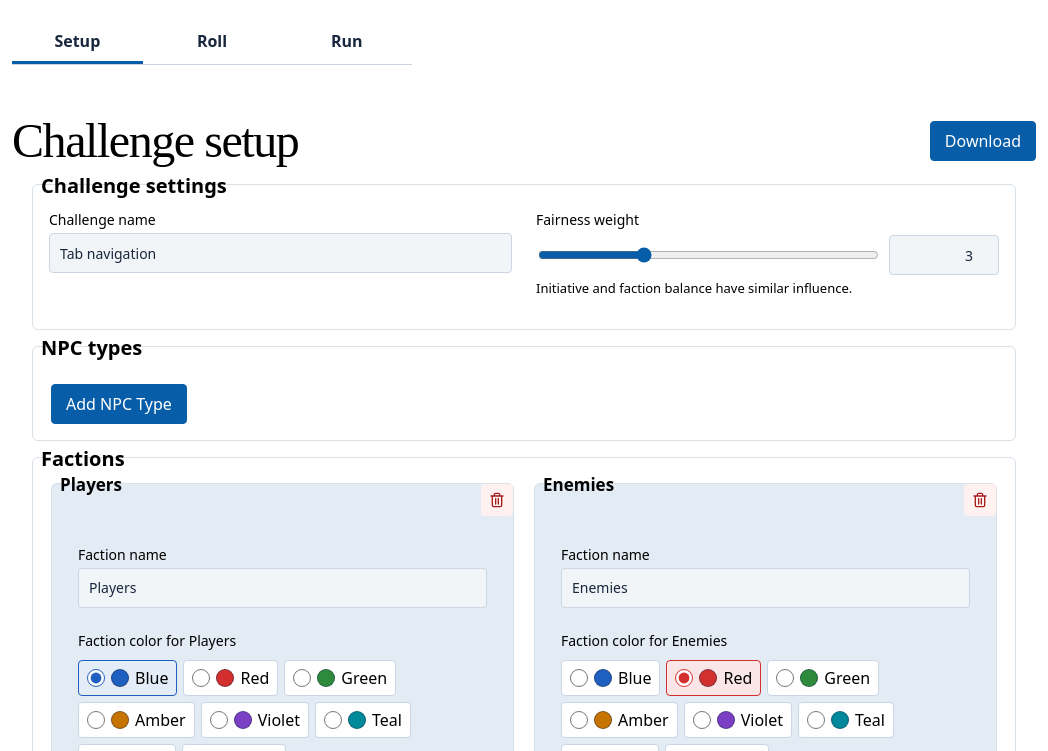
Scenario: challenge workflow tabs › switches between Setup, Roll, and Run on the detail page
Click the tab "Roll": (212, 42) left=147, top=20, right=277, bottom=64
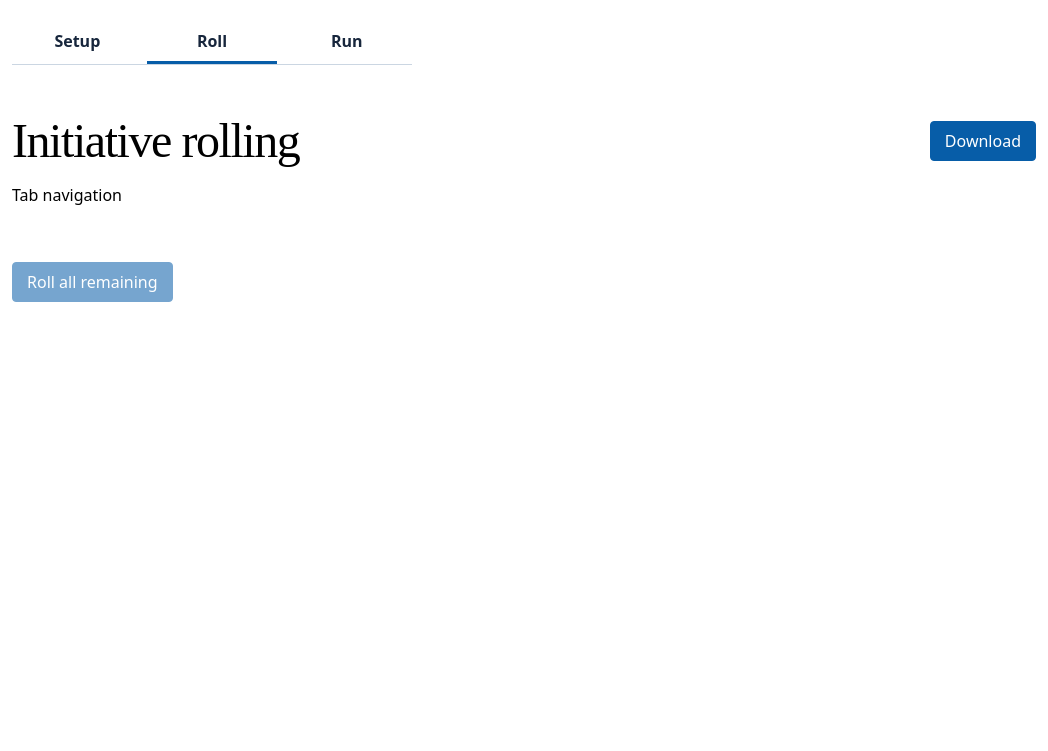
Now the heading "Initiative rolling" is shown, box left=12, top=114, right=299, bottom=167
Click the tab "Run": (347, 42) left=281, top=20, right=412, bottom=64
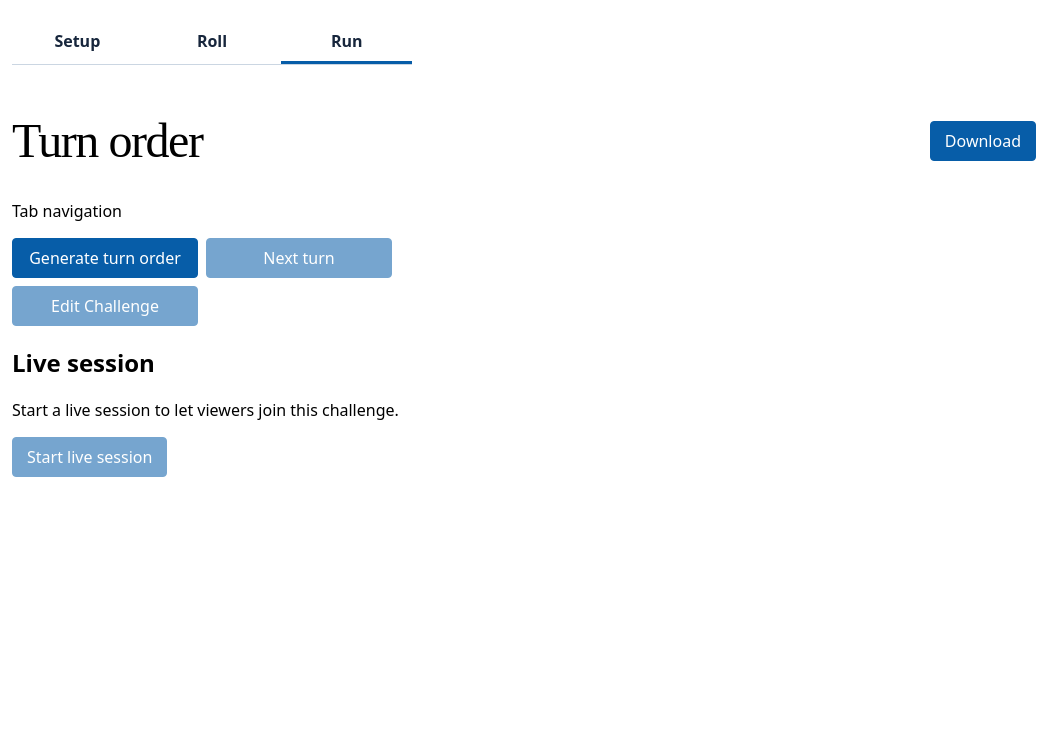
Now the heading "Turn order" is shown, box left=12, top=114, right=202, bottom=167
